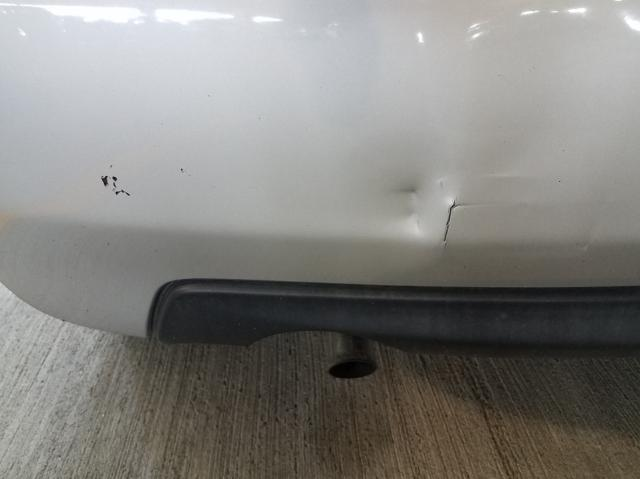Bumper: (72, 130, 498, 304)
